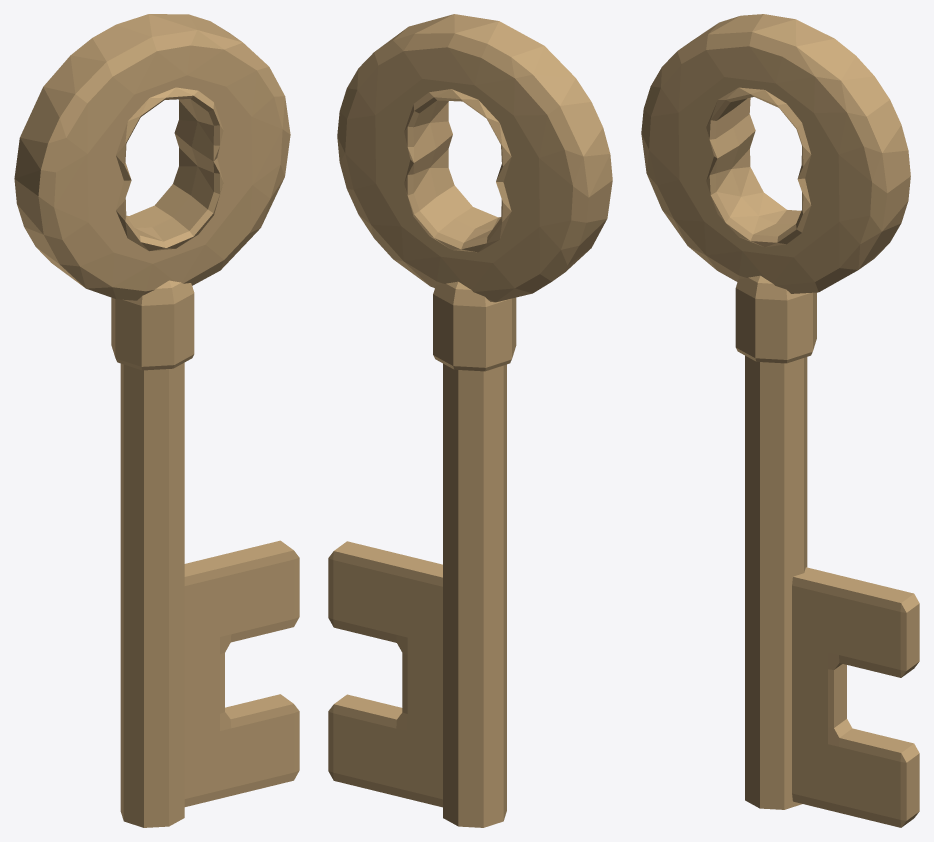
Rendered from key_02.fbx.
3 views of the same model, side by side, from view 1: azimuth 30°, elevation 25°; view 2: azimuth 150°, elevation 25°; view 3: azimuth 330°, elevation 25° (orthographic). The views are drawn at different scales.
Parts seen in each view (by area): view 1: key02head.002; view 2: key02head.002; view 3: key02head.002.
Part boxes in pixels (x1,y1,x2,y2): key02head.002: [14, 14, 299, 827]; key02head.002: [328, 14, 612, 827]; key02head.002: [641, 14, 919, 827].
Bounding box in the file's own units: 26.6 × 75.33 × 7.46.
